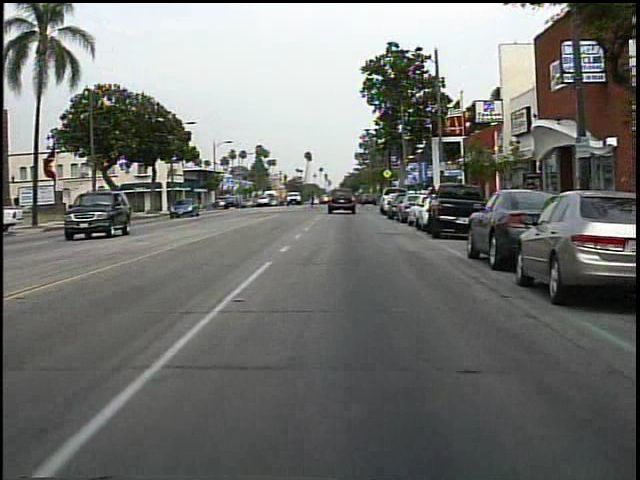person: (310, 186, 324, 215)
